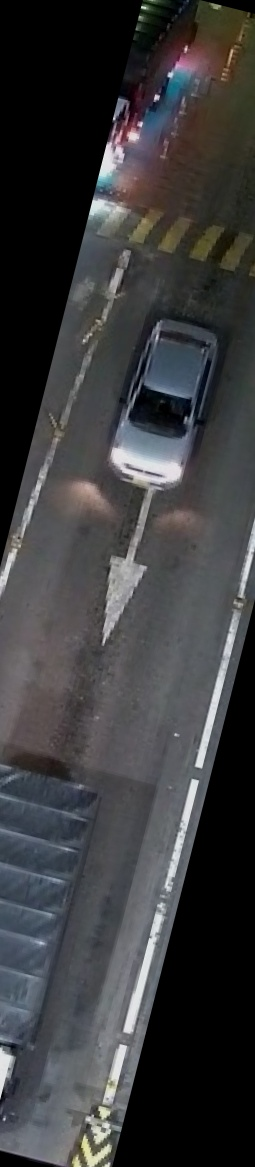car: (89, 301, 235, 504)
truck: (0, 738, 114, 1150), (96, 0, 213, 207)
